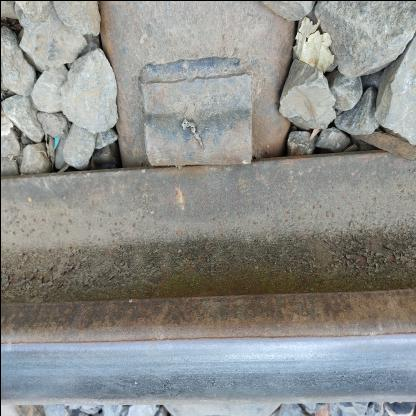Defective 1: (120, 49, 270, 187)
